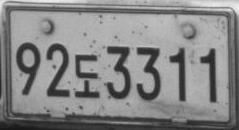1: (197, 47, 226, 102), (166, 47, 195, 101)
2: (45, 42, 70, 97)
3: (136, 46, 161, 101), (106, 45, 131, 99)
9: (15, 41, 41, 96)
도: (73, 54, 100, 98)
